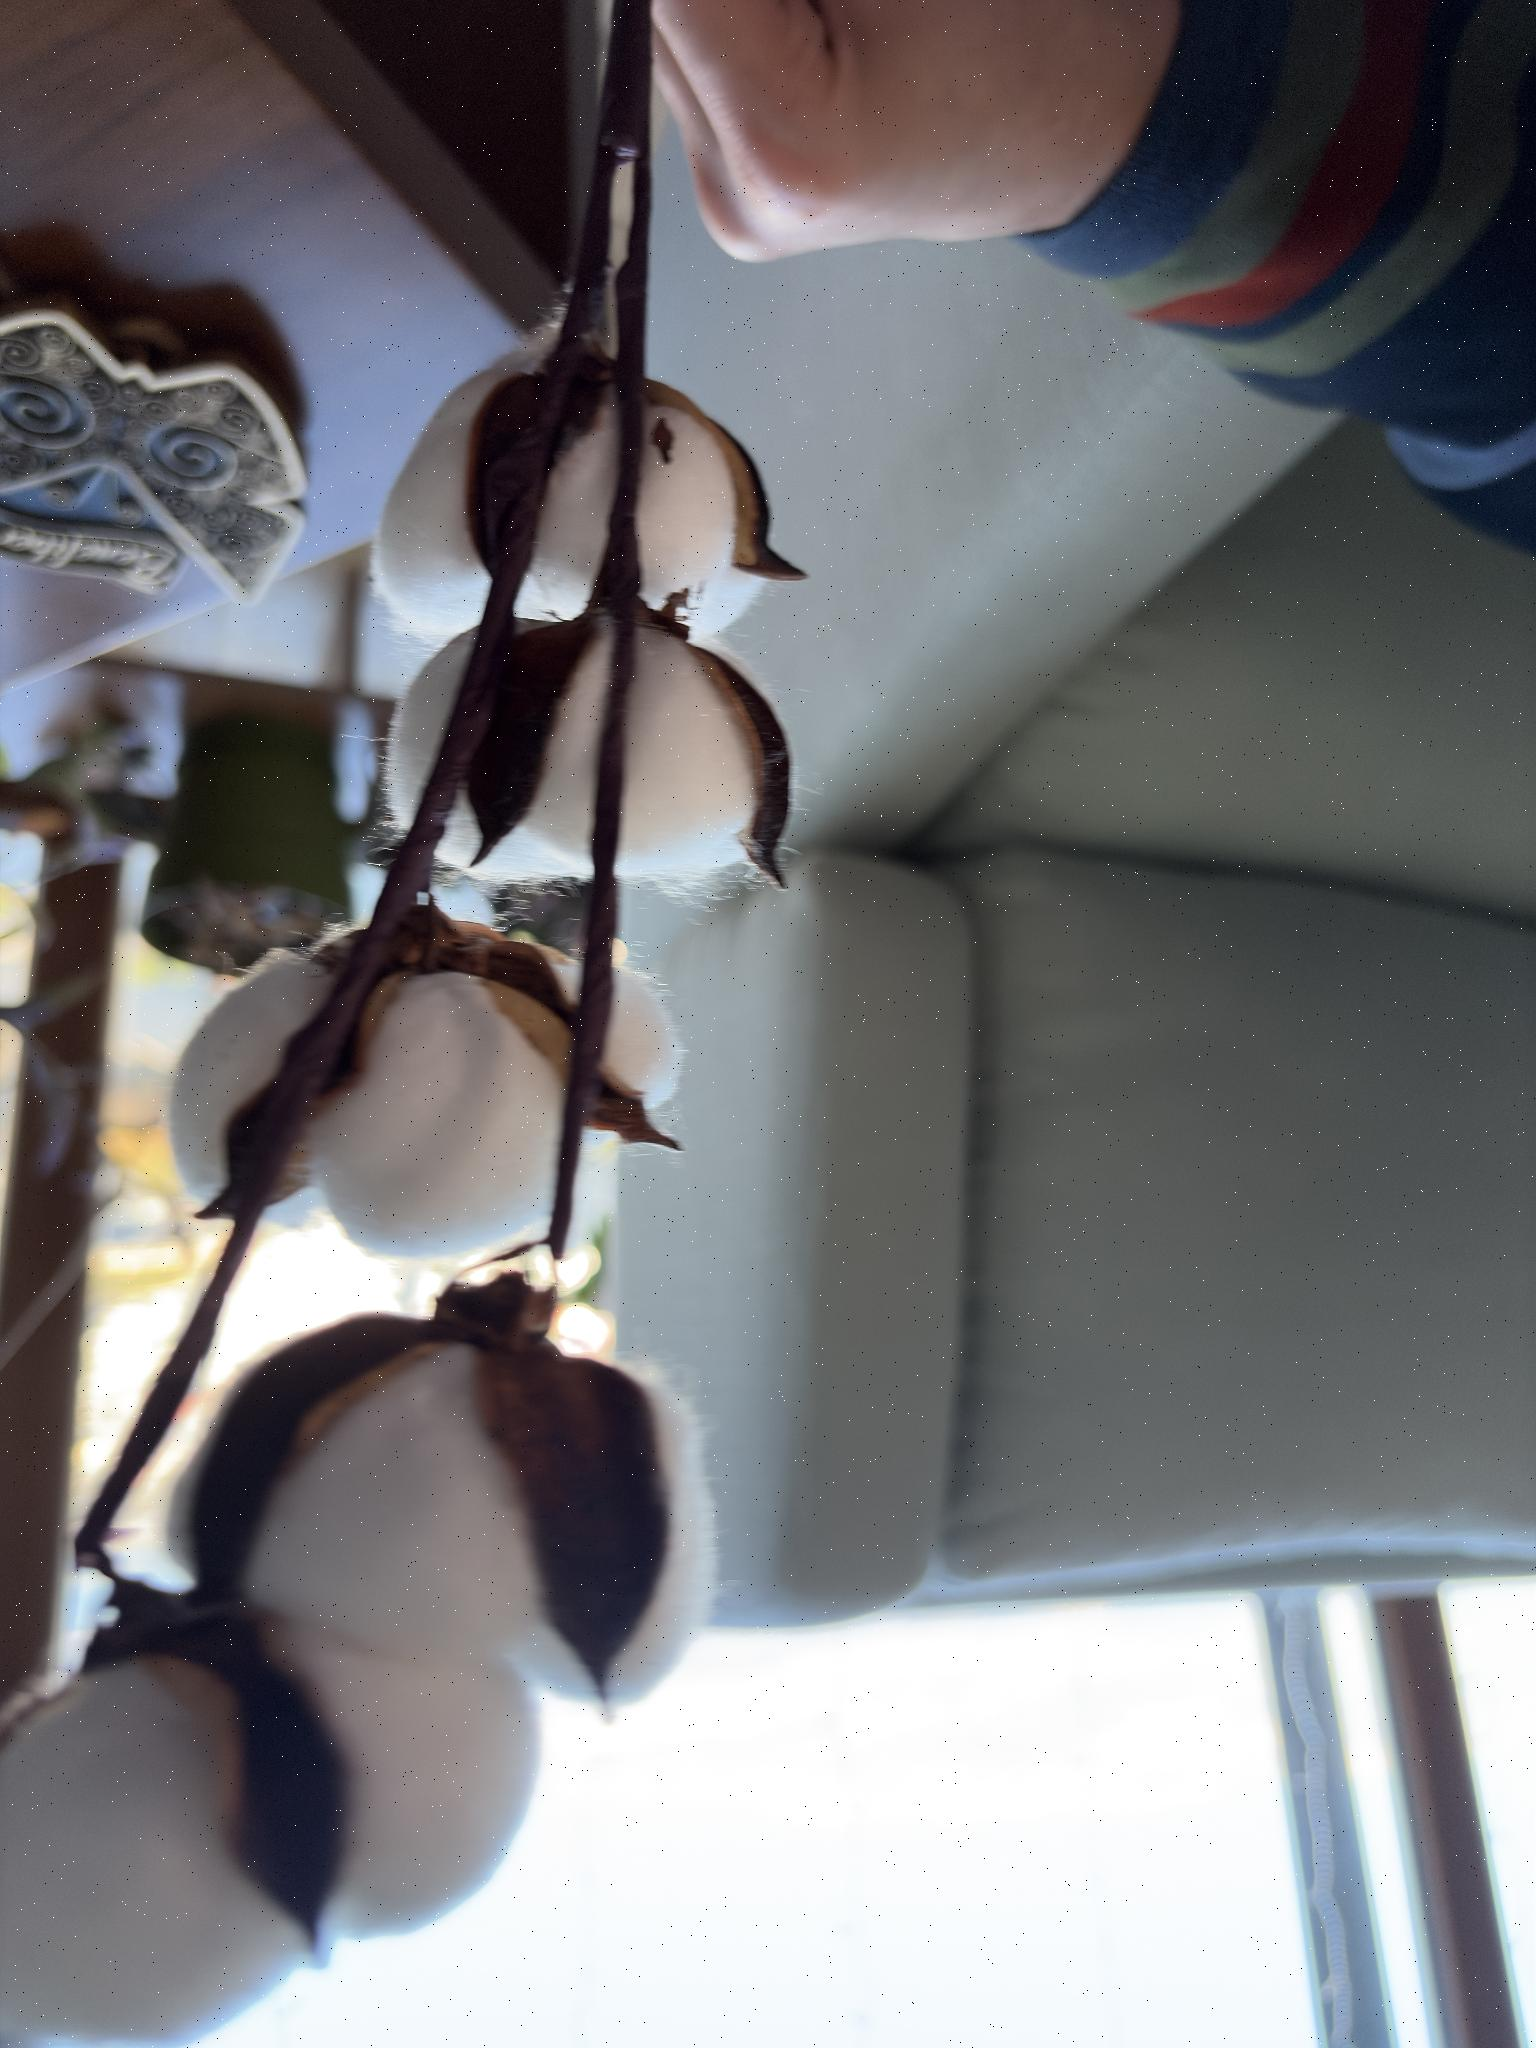cotton_boll: (0, 1663, 308, 2045), (247, 1345, 541, 1661), (276, 1622, 539, 1938), (308, 971, 563, 1258), (373, 334, 552, 647), (168, 961, 329, 1206), (603, 1380, 716, 1708), (616, 629, 760, 876), (636, 400, 757, 634), (520, 400, 616, 618), (526, 629, 608, 858), (384, 634, 476, 829), (602, 968, 682, 1109), (510, 1617, 599, 1703), (442, 793, 478, 868)
cotton_boll-cluster: (2, 1288, 802, 2048), (161, 910, 674, 1263), (381, 608, 776, 908), (371, 356, 784, 642)
